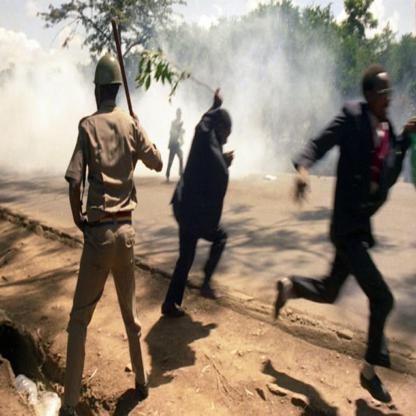face: (372, 76, 391, 119), (222, 129, 232, 147)
